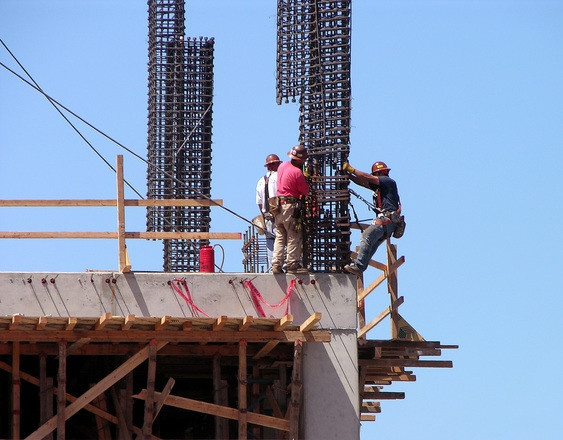red: (286, 143, 309, 168), (369, 160, 392, 183), (261, 152, 282, 174)
